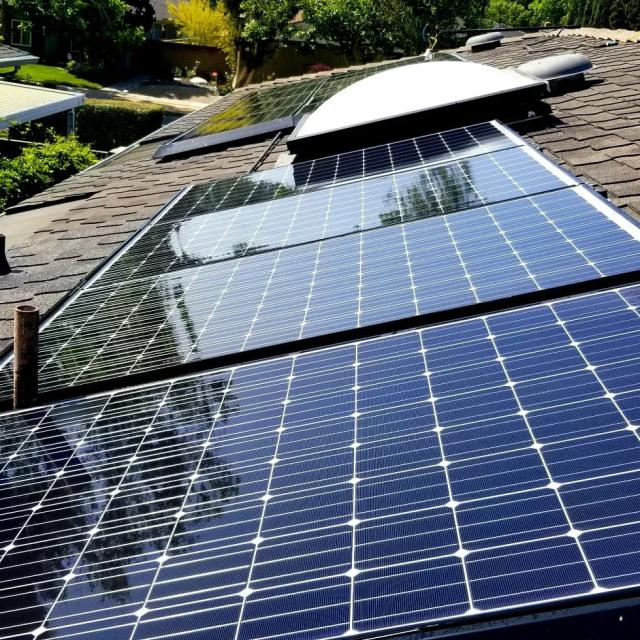clean-solar-panel: (1, 285, 640, 640)
